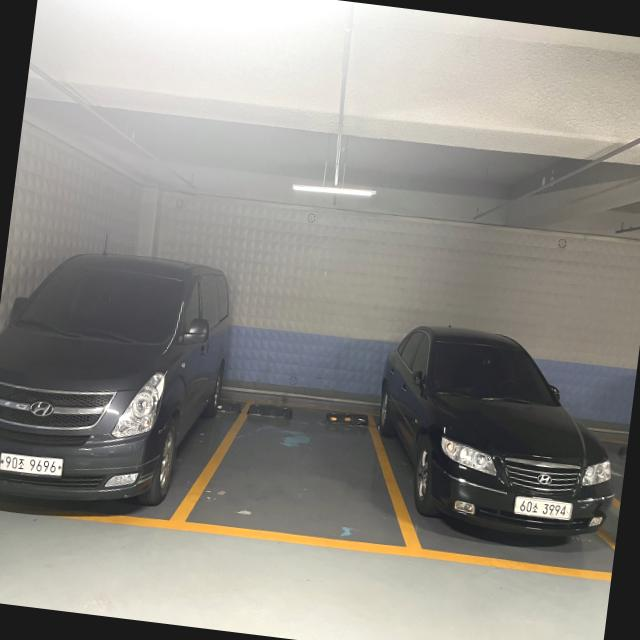car: (375, 311, 640, 588), (0, 218, 214, 532)
free: (160, 392, 432, 565)
